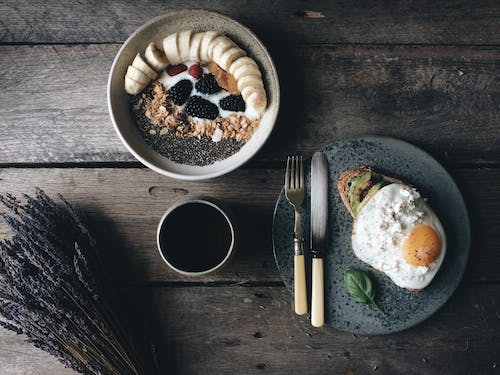knife: (309, 149, 329, 330)
